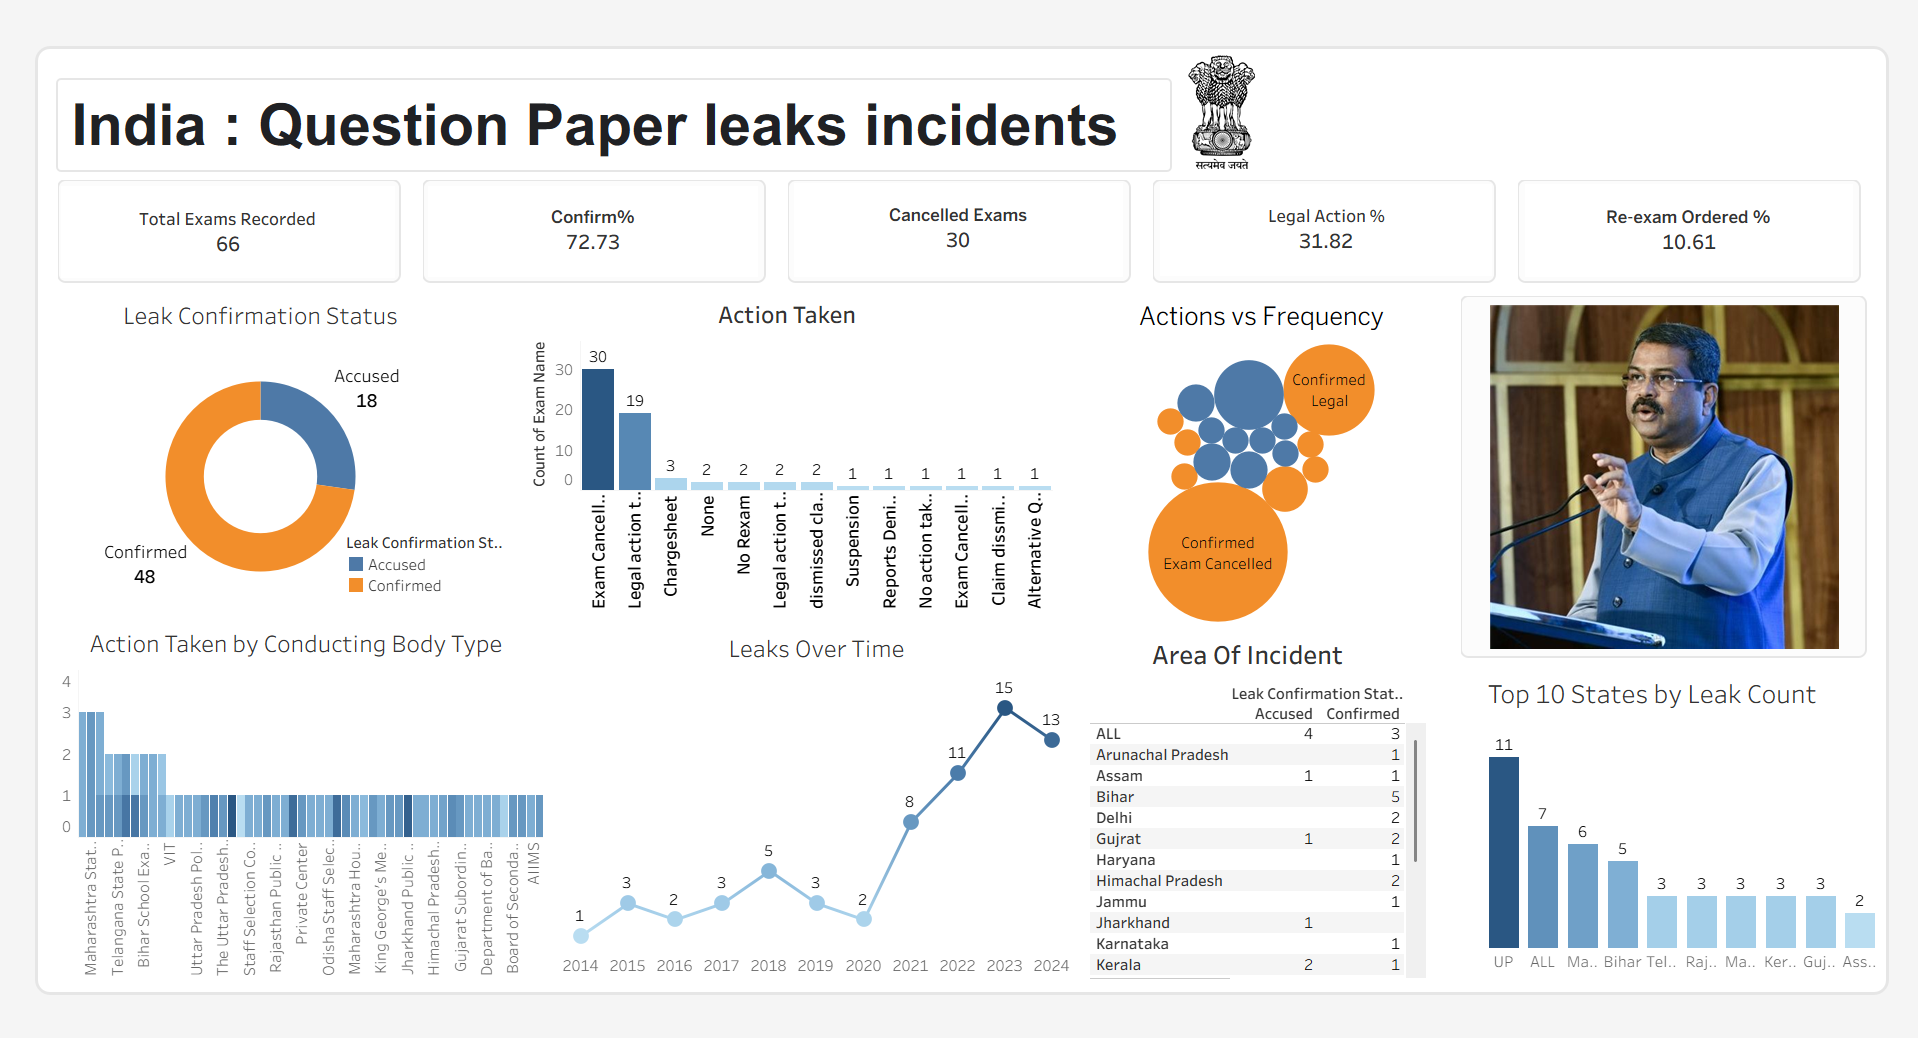

The dashboard page shown, as its layout file describes it:
{"tool":"tableau","page":{"name":"Dashboard 1","canvas":[1000,1000],"units":"permille","ordinal":0},"visuals":[{"type":"blank","box":[18.1,0,965.6,998.8]},{"type":"image","box":[4.8,9.4,990.3,981.2]},{"type":"image","param":"Image/Ashoka Symbol.png","box":[618.6,9.4,54.3,119.9]},{"type":"text","box":[24.1,23.5,591.4,119.9]},{"type":"worksheet","title":"Sheet 16 (2)","mark":"Automatic","box":[30.2,141,181.1,108.1]},{"type":"worksheet","title":"Sheet 16 (3)","mark":"Automatic","box":[220.3,141,181.1,108.1]},{"type":"worksheet","title":"Sheet 16 (4)","mark":"Automatic","box":[410.4,141,181.1,108.1]},{"type":"worksheet","title":"Sheet 16 (5)","mark":"Automatic","box":[600.5,141,181.1,108.1]},{"type":"worksheet","title":"Sheet 16 (6)","mark":"Automatic","box":[790.6,141,181.1,108.1]},{"type":"worksheet","title":"Cancelled Exams","mark":"Automatic","box":[413.4,144.5,171.4,98.7]},{"type":"worksheet","title":"Legal Action %","mark":"Automatic","box":[604.1,145.7,173.2,96.4]},{"type":"worksheet","title":"Re‑exam Ordered %","mark":"Automatic","box":[794.2,145.7,170.8,97.5]},{"type":"worksheet","title":"Total Exams Recorded","mark":"Automatic","box":[32,146.9,173.8,97.5]},{"type":"worksheet","title":"Confirmed %","mark":"Automatic","box":[222.7,146.9,172,96.4]},{"type":"worksheet","title":"Action Taken","mark":"Bar","rows":["Exam Name"],"cols":["Action taken"],"box":[271.6,260.9,277,332.6]},{"type":"worksheet","title":"Leak Confirmation Status","mark":"Pie","cols":["Calculation_0569836887244801","Calculation_0569836887244801"],"box":[19.9,262,231.7,332.6]},{"type":"worksheet","title":"Actions vs Frequency","mark":"Circle","box":[556.4,263.2,201.6,343.1]},{"type":"worksheet","title":"Sheet 16","mark":"Automatic","box":[761,263.2,211.8,381.9]},{"type":"image","param":"Image/07pradhan.jpg","box":[767.6,272.6,199.2,361.9]},{"type":"legend","title":"Leak Confirmation Status","param":"[federated.0l32bh31osr1tt13g9zdy0bfrk4t].[none:Leak Confirmation Status:nk]","box":[180.5,511.2,81.5,87]},{"type":"worksheet","title":"Action Taken by Conducting Body Type","mark":"Bar","rows":["Exam Name"],"cols":["Conducting Body"],"box":[24.7,607.5,258.3,372.5]},{"type":"worksheet","title":"Leaks Over Time","mark":"Automatic","rows":["Exam Name","Exam Name"],"cols":["Date of Exam/Incident"],"box":[290.3,612.2,270.4,367.8]},{"type":"worksheet","title":"Area of Incident","mark":"Automatic","rows":["Area(s) of Incident"],"cols":["Leak Confirmation Status"],"box":[567.9,618.1,199.8,364.3]},{"type":"worksheet","title":"Top 10 States by Leak Count","mark":"Automatic","rows":["Exam Name"],"cols":["Area(s) of Incident"],"box":[773.1,659.2,206.4,332.6]}]}

Visuals, with their boxes on the dashboard's canvas, which has no fixed pixel size, in thousandths of its width and height (x1, y1, x2, y2). These are canvas units, not pixel positions in the 1918x1038 screenshot, which may show the page scaled, cropped or inside an application window:
blank: 18, 0, 984, 999
image: 5, 9, 995, 991
image: 619, 9, 673, 129
text: 24, 24, 616, 143
"Sheet 16 (2)" worksheet: 30, 141, 211, 249
"Sheet 16 (3)" worksheet: 220, 141, 401, 249
"Sheet 16 (4)" worksheet: 410, 141, 592, 249
"Sheet 16 (5)" worksheet: 600, 141, 782, 249
"Sheet 16 (6)" worksheet: 791, 141, 972, 249
"Cancelled Exams" worksheet: 413, 144, 585, 243
"Legal Action %" worksheet: 604, 146, 777, 242
"Re‑exam Ordered %" worksheet: 794, 146, 965, 243
"Total Exams Recorded" worksheet: 32, 147, 206, 244
"Confirmed %" worksheet: 223, 147, 395, 243
"Action Taken" worksheet (Bar marks): 272, 261, 549, 594
"Leak Confirmation Status" worksheet (Pie marks): 20, 262, 252, 595
"Actions vs Frequency" worksheet (Circle marks): 556, 263, 758, 606
"Sheet 16" worksheet: 761, 263, 973, 645
image: 768, 273, 967, 634
"Leak Confirmation Status" legend: 180, 511, 262, 598
"Action Taken by Conducting Body Type" worksheet (Bar marks): 25, 608, 283, 980
"Leaks Over Time" worksheet: 290, 612, 561, 980
"Area of Incident" worksheet: 568, 618, 768, 982
"Top 10 States by Leak Count" worksheet: 773, 659, 980, 992
